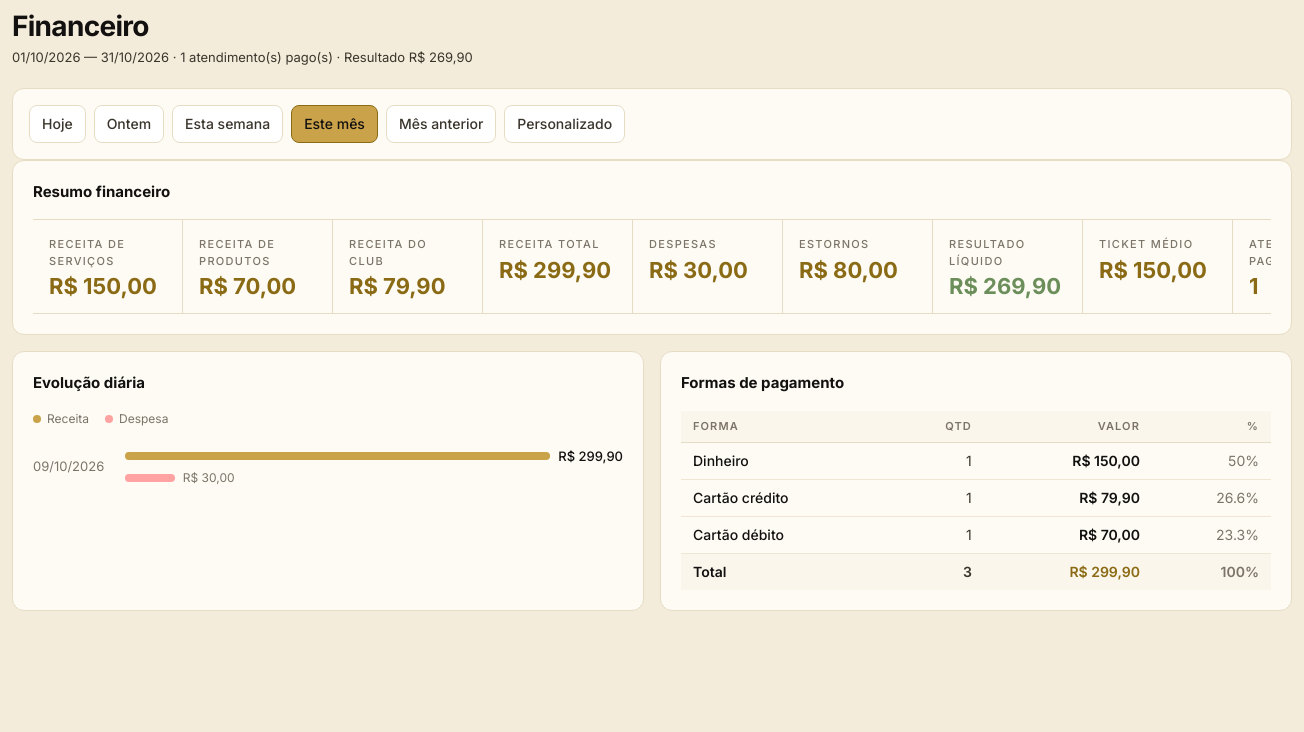
Financeiro — resumo do período › período sem movimentação mostra o estado vazio
The image size is (1304, 732).
Click the button "Mês anterior" at point(441, 124), box x1=386 y1=104 x2=496 y2=142
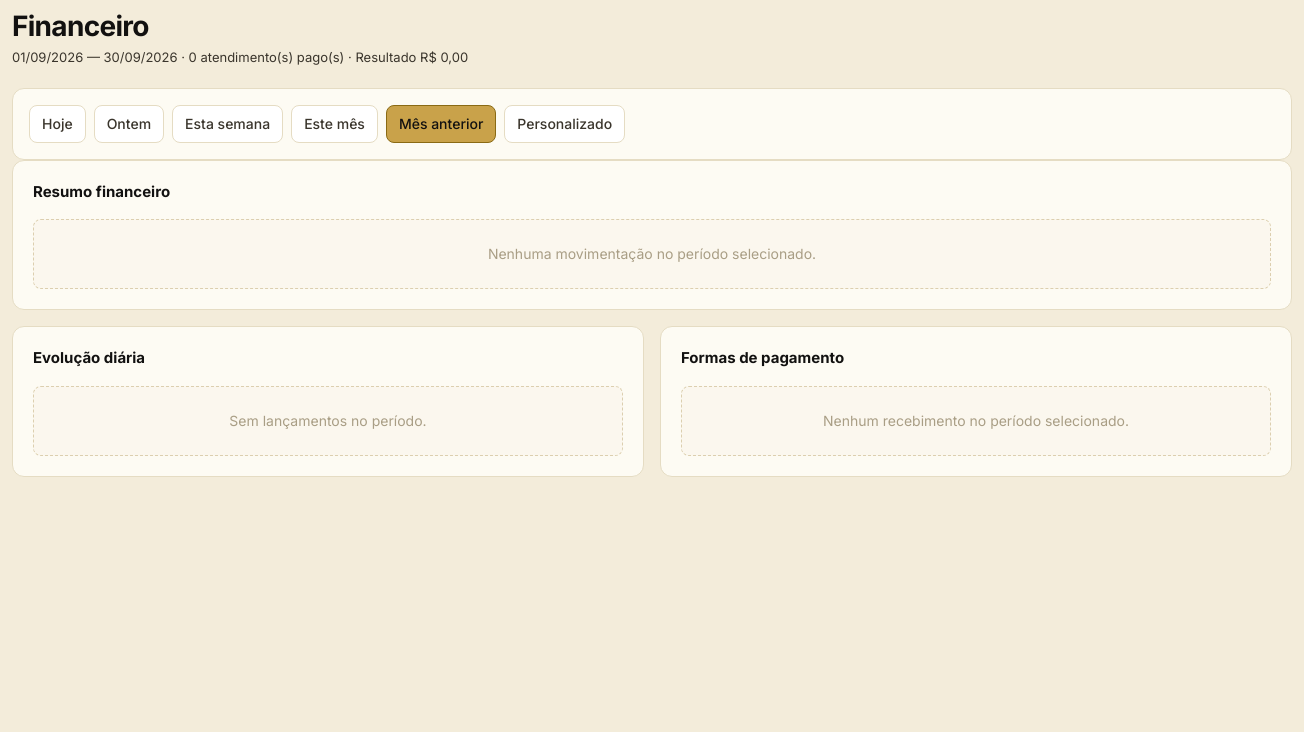
Expected: the text "Nenhuma movimentação no período selecionado." is shown, x1=33 y1=219 x2=1271 y2=289
Expected: the text "Receita total" is gone
